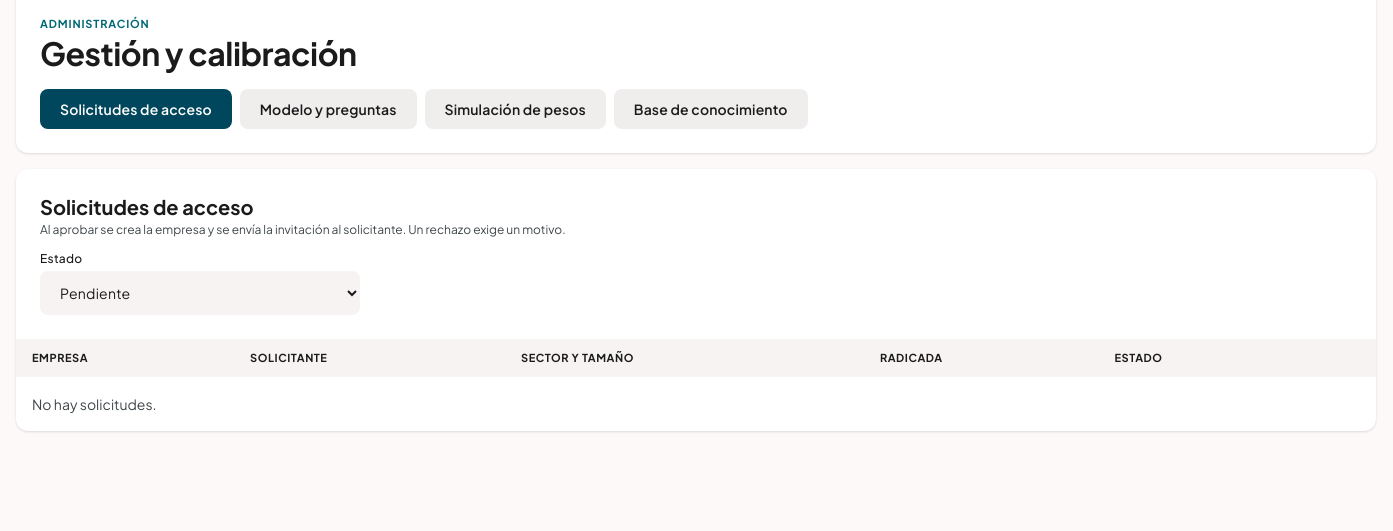
HU-035 · Simular cambio de pesos › informa la suma propuesta mientras se editan los pesos
Click the tab "Simulación de pesos": (515, 109) [424,89,606,129]
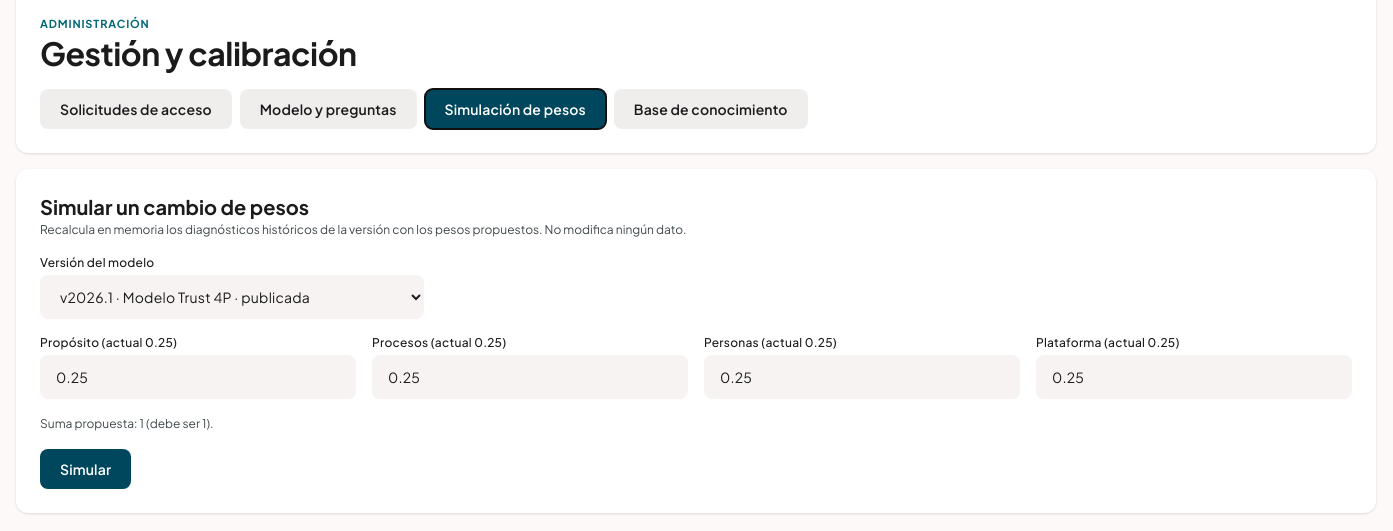
Expected: the number field labelled "Propósito (actual 0.25)" is shown
Expected: the text "Suma propuesta: 1 (debe ser 1)." is shown, [40,416,214,431]
Replace the text in the number field labelled "Propósito (actual 0.25)" with "0.4": (198, 377) [40,355,356,399]
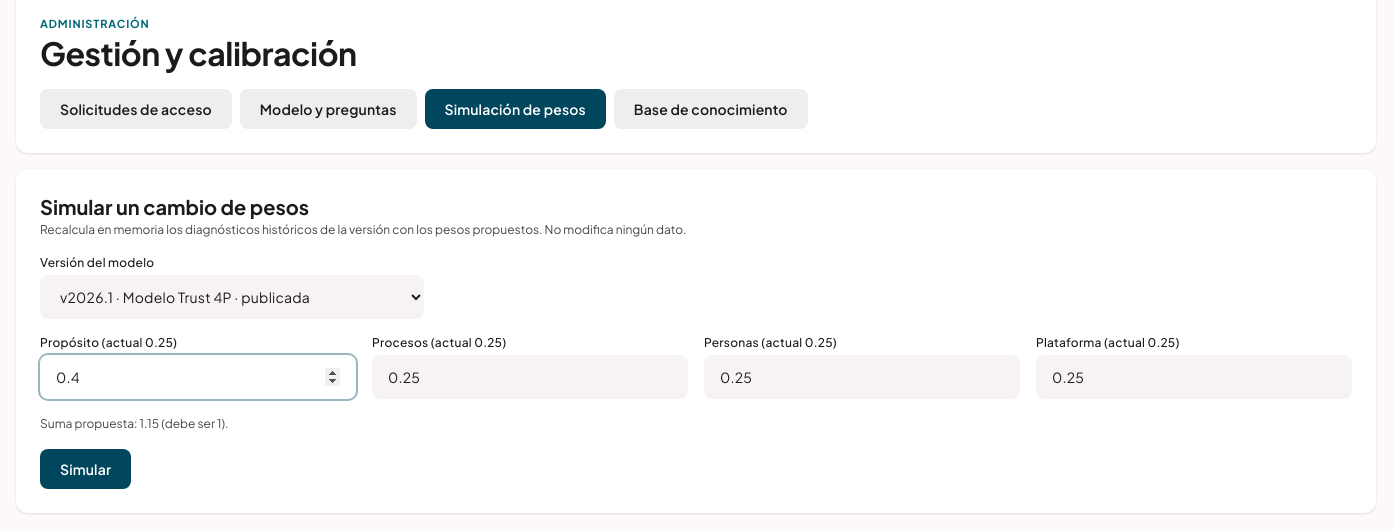
Expected: the text "Suma propuesta: 1.15 (debe ser 1)." is shown, [40,416,228,431]
